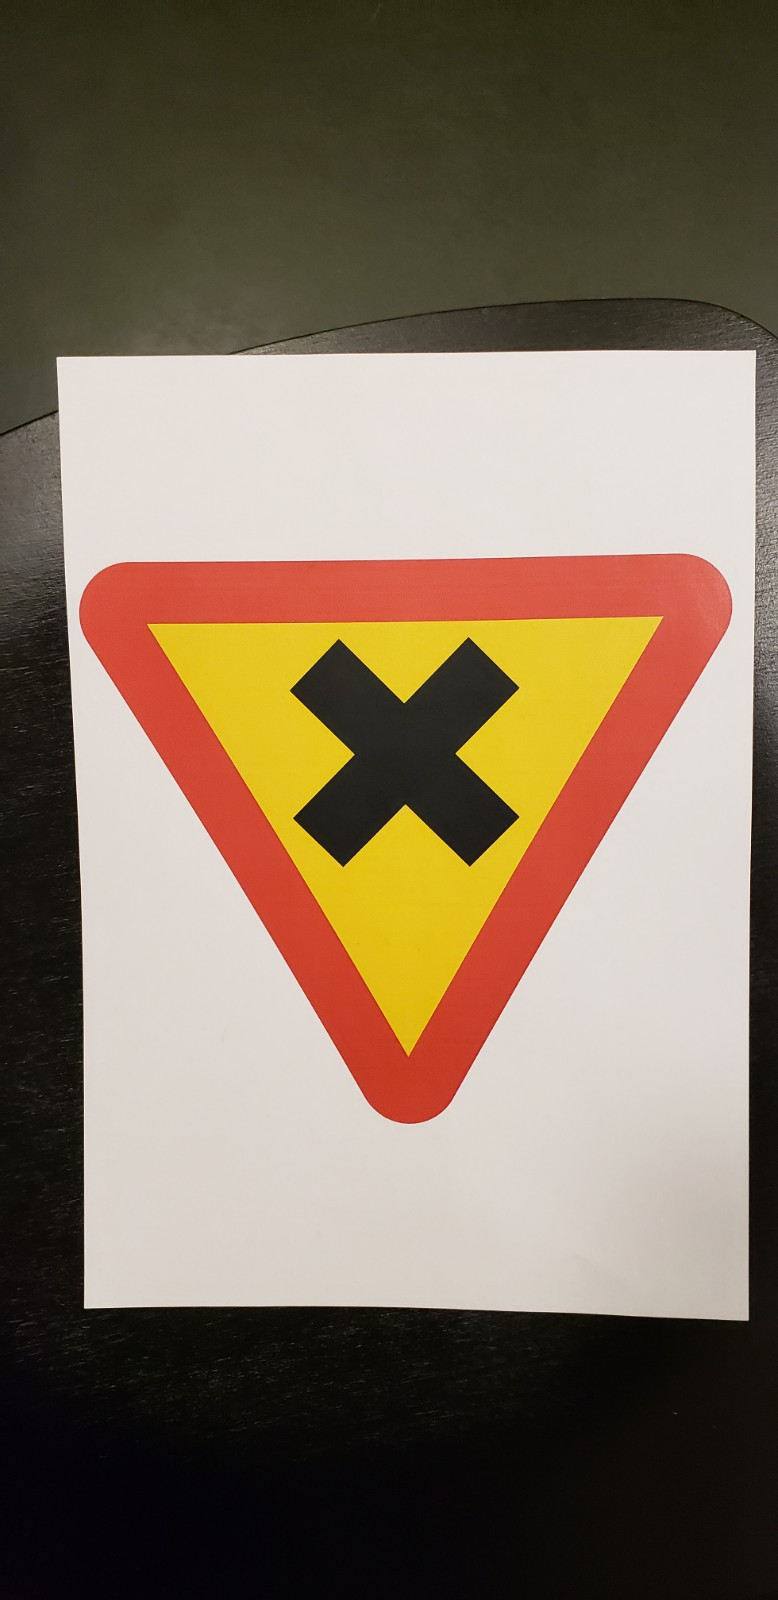junction: (81, 554, 755, 1133)
